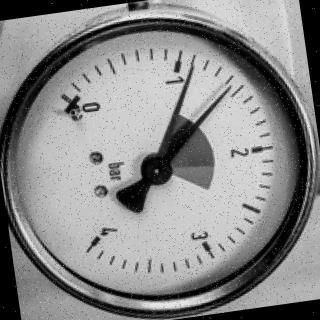gauge: (0, 14, 320, 319), (45, 82, 107, 134), (64, 217, 129, 265), (136, 150, 174, 190), (182, 62, 199, 78), (221, 81, 237, 96)
